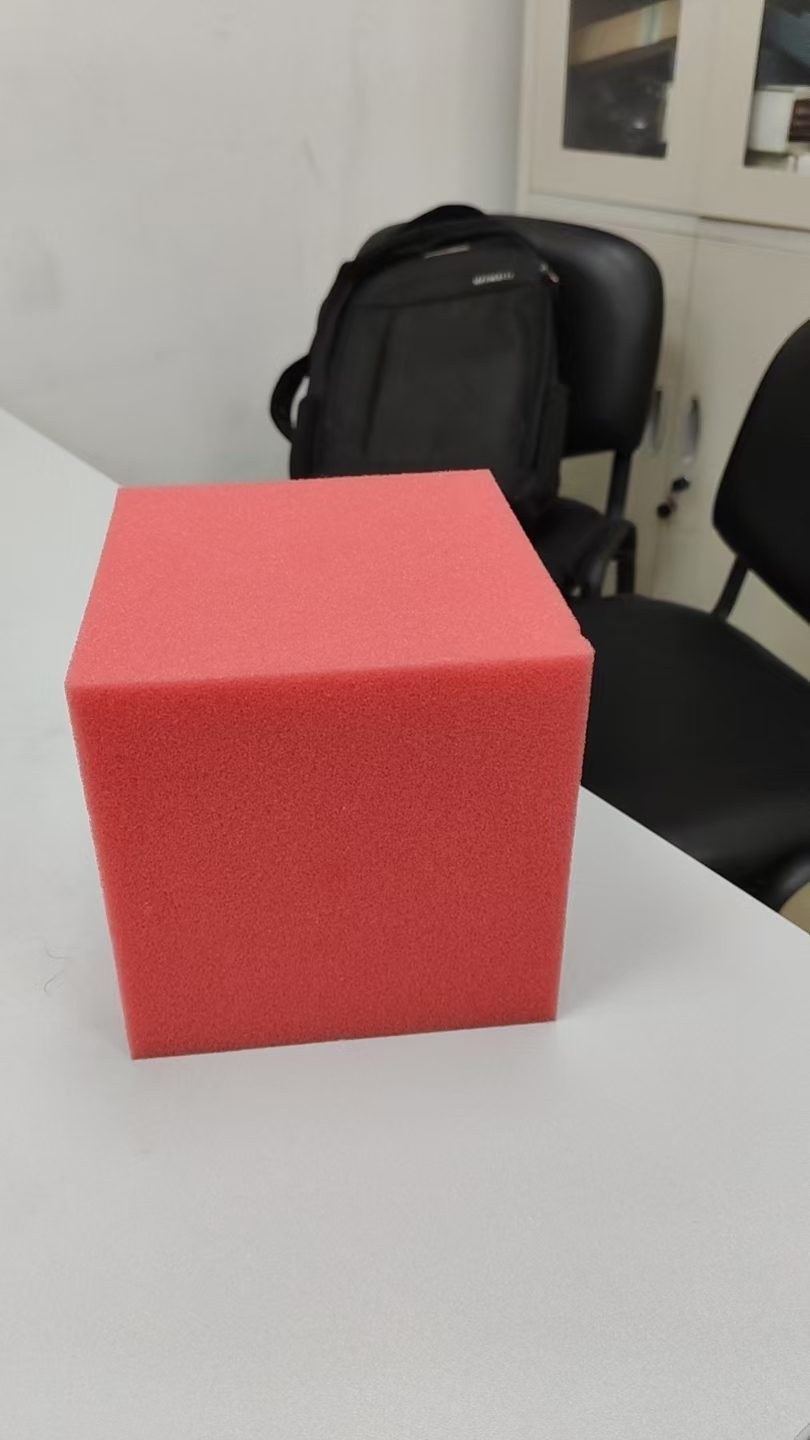red_large: (64, 465, 593, 1063)
